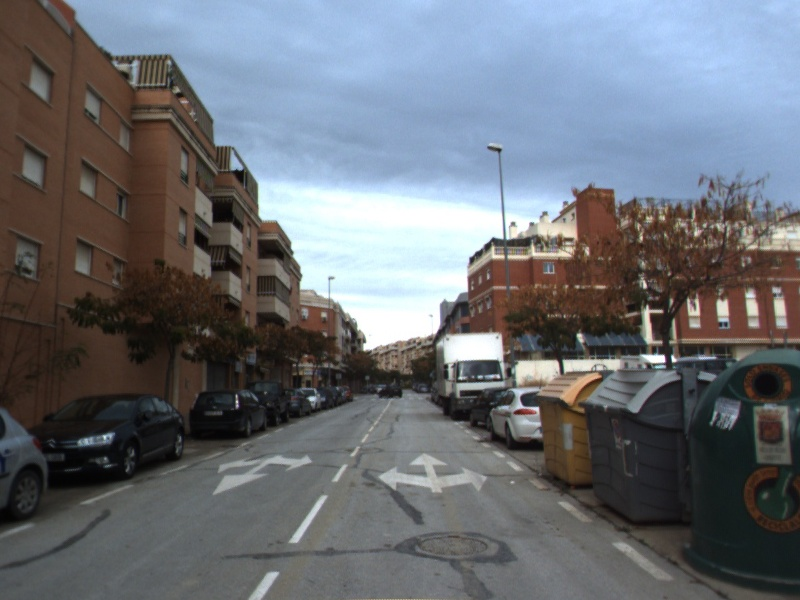STRAIGHT_LEFT_RIGHT: (376, 450, 490, 494)
